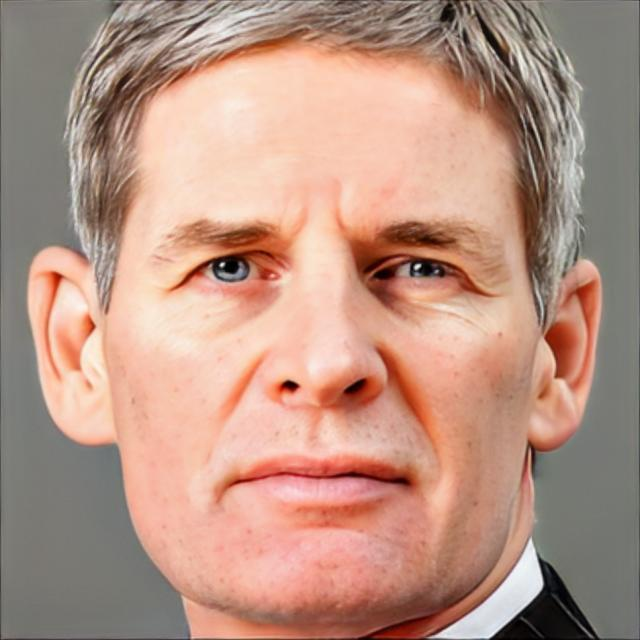anger: (109, 27, 536, 630)
